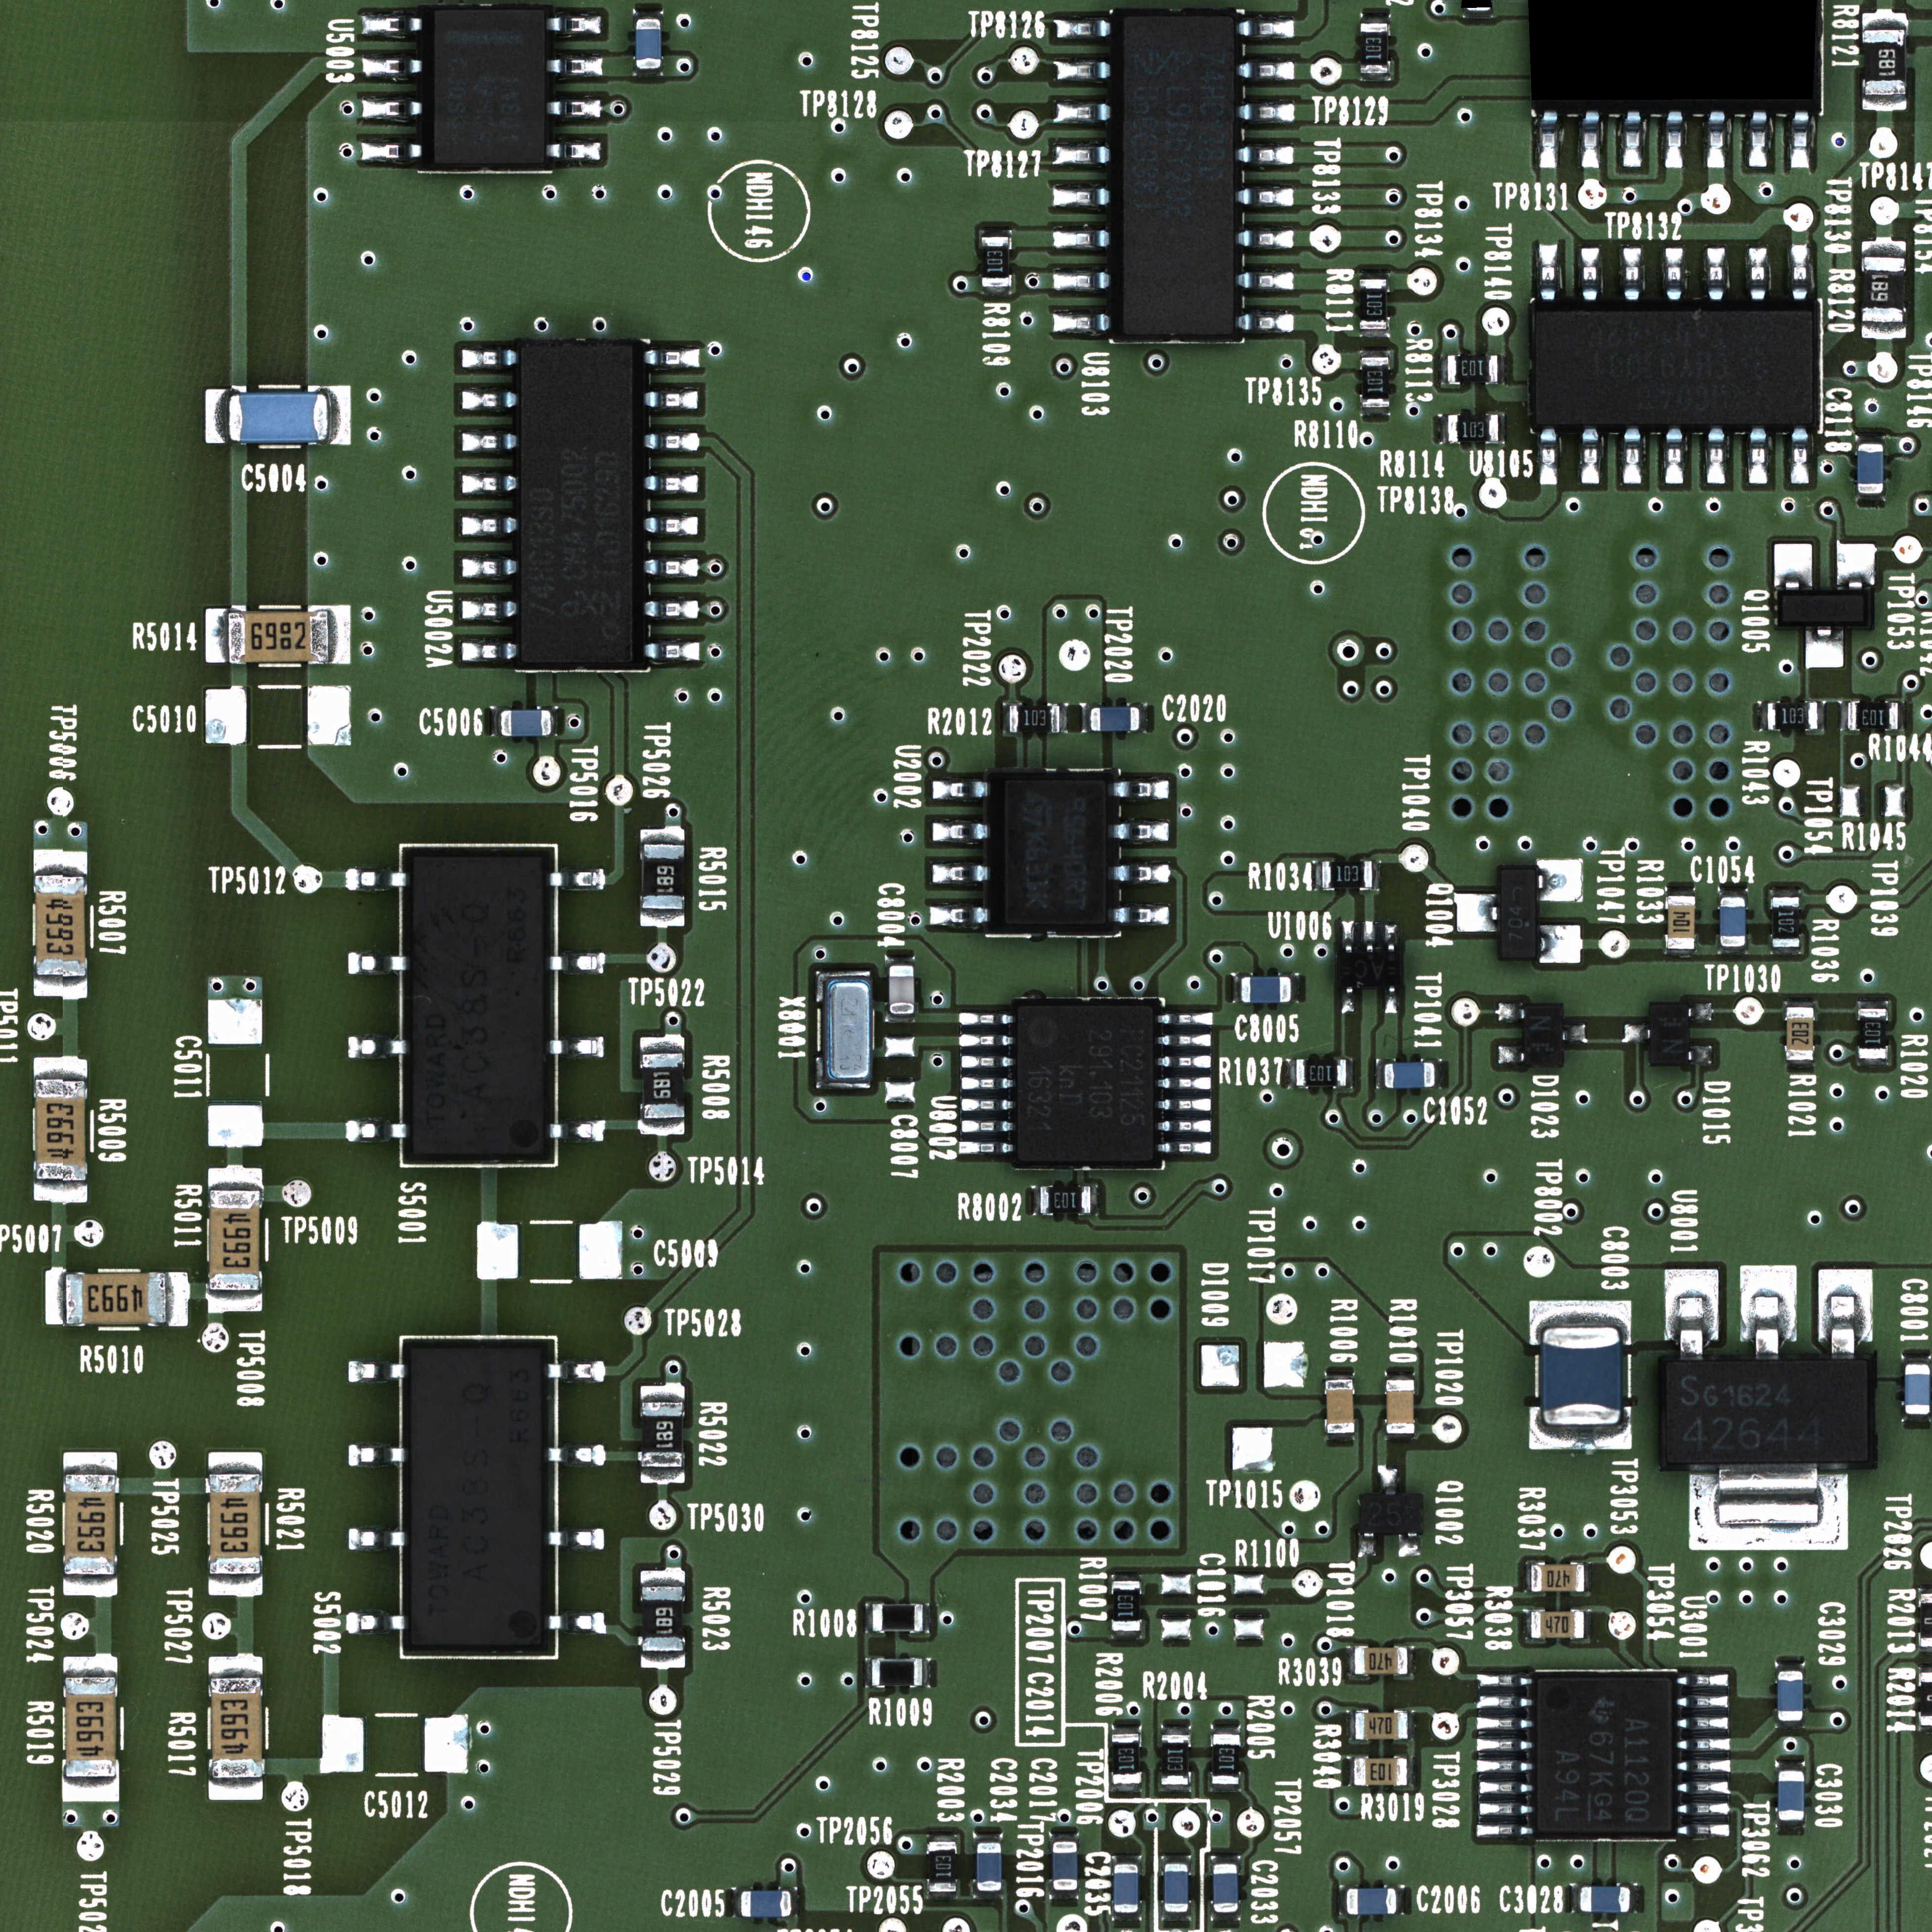Package: (409, 1346, 543, 1647), (410, 856, 545, 1157), (1122, 16, 1233, 338), (522, 347, 635, 663), (1534, 311, 1813, 425), (1016, 1005, 1154, 1162), (1665, 1362, 1870, 1463), (1537, 1679, 1672, 1831), (432, 9, 545, 165), (1001, 780, 1108, 925), (1539, 1329, 1622, 1424), (64, 1474, 119, 1575), (209, 1474, 264, 1575), (34, 1079, 87, 1182), (211, 1679, 264, 1778), (228, 612, 329, 663), (65, 1677, 117, 1778), (65, 1274, 166, 1323), (35, 876, 85, 977), (211, 1189, 258, 1292), (228, 393, 327, 441), (1499, 869, 1537, 961), (1778, 589, 1872, 626), (1861, 30, 1905, 96), (642, 1401, 685, 1468), (642, 1053, 685, 1118), (642, 1587, 685, 1651), (1863, 257, 1904, 322), (642, 844, 683, 909), (1523, 1005, 1562, 1069), (1649, 1003, 1688, 1063), (1361, 1493, 1421, 1530), (1341, 952, 1398, 987), (1355, 1645, 1408, 1675), (1858, 1008, 1888, 1060), (1667, 895, 1695, 948), (1353, 1757, 1407, 1785), (1355, 1711, 1408, 1739), (872, 1603, 922, 1633), (1111, 1734, 1141, 1783), (929, 1842, 957, 1893), (1447, 414, 1499, 442), (1787, 1007, 1813, 1060), (1387, 1380, 1414, 1433), (1327, 1380, 1353, 1433), (1361, 23, 1389, 73), (982, 237, 1010, 287), (872, 1658, 922, 1686), (1361, 357, 1389, 407), (1162, 1734, 1189, 1785), (1532, 1564, 1583, 1591), (1008, 706, 1060, 732), (1040, 1187, 1092, 1214), (1361, 280, 1387, 329), (1113, 1582, 1139, 1631), (741, 1890, 791, 1916), (888, 964, 915, 1014), (1346, 1888, 1396, 1914), (1385, 1062, 1435, 1088), (1580, 1886, 1629, 1913), (1532, 1612, 1582, 1638), (1322, 862, 1371, 888), (501, 709, 550, 736), (1447, 356, 1497, 382), (1773, 897, 1799, 947), (1242, 977, 1292, 1003), (1297, 1060, 1346, 1086), (1212, 1734, 1238, 1783), (1849, 702, 1898, 729), (1858, 444, 1884, 494), (635, 18, 660, 69), (1778, 1670, 1803, 1721), (1905, 1364, 1930, 1415), (1115, 1863, 1139, 1913), (1720, 897, 1744, 947), (1164, 1863, 1189, 1913), (1767, 704, 1817, 729), (1090, 706, 1139, 731), (1214, 1863, 1238, 1913), (1780, 1771, 1805, 1821), (1053, 1842, 1077, 1890), (977, 1844, 1001, 1891)
Solder: (1690, 1465, 1849, 1550), (1739, 1265, 1798, 1357), (1819, 1269, 1874, 1357), (1665, 1269, 1720, 1357), (1530, 1299, 1631, 1329), (1529, 1424, 1631, 1451), (1539, 860, 1583, 902), (1456, 893, 1499, 932), (1838, 543, 1875, 587), (1775, 543, 1812, 587), (1539, 924, 1580, 962), (1787, 111, 1813, 170), (1746, 111, 1773, 170), (1704, 111, 1730, 170), (1663, 111, 1690, 170), (1619, 111, 1645, 170), (359, 99, 425, 122), (359, 14, 423, 37), (361, 55, 425, 78), (361, 140, 425, 163), (209, 1652, 264, 1679), (345, 1610, 403, 1635), (62, 1778, 120, 1803), (1537, 110, 1562, 168), (1578, 110, 1603, 168), (327, 386, 350, 446), (345, 1118, 405, 1141), (1806, 628, 1842, 667), (64, 1652, 119, 1677), (547, 140, 605, 163), (548, 1359, 605, 1382), (349, 1035, 405, 1058), (349, 952, 405, 975), (548, 12, 605, 35), (548, 55, 605, 78), (547, 97, 603, 120), (345, 869, 405, 890), (35, 849, 87, 874), (64, 1451, 119, 1474), (205, 609, 228, 663), (349, 1527, 403, 1550), (205, 389, 228, 444), (1790, 244, 1812, 303), (329, 605, 350, 663), (34, 975, 87, 998), (462, 472, 515, 495), (1116, 862, 1169, 885), (462, 387, 515, 410), (932, 862, 985, 885), (1054, 58, 1108, 81), (932, 819, 985, 842), (931, 904, 987, 925), (550, 1612, 607, 1633), (646, 513, 697, 536), (1053, 311, 1108, 333), (166, 1272, 188, 1327), (1238, 311, 1293, 333), (349, 1444, 403, 1465), (550, 1444, 605, 1465), (209, 1778, 264, 1799), (44, 1270, 65, 1325), (209, 1575, 264, 1596), (1240, 18, 1295, 39), (34, 1182, 88, 1203), (1053, 186, 1108, 207), (349, 1361, 403, 1382), (1539, 428, 1559, 487), (1748, 428, 1767, 487), (552, 1120, 605, 1141), (462, 347, 515, 368), (1115, 778, 1168, 800), (462, 557, 515, 579), (462, 640, 515, 662), (462, 430, 515, 451), (209, 1453, 262, 1474), (462, 598, 515, 619), (1054, 143, 1108, 165), (462, 515, 515, 536), (1054, 18, 1108, 39), (64, 1575, 117, 1596), (646, 598, 699, 619), (1054, 101, 1108, 122), (646, 640, 699, 662), (209, 1292, 262, 1313), (209, 1168, 262, 1189), (1707, 428, 1727, 485), (1790, 428, 1810, 485), (1238, 145, 1295, 165), (1748, 246, 1767, 303), (552, 952, 603, 973), (552, 1529, 603, 1550), (646, 472, 697, 494), (646, 389, 697, 410), (648, 430, 699, 451), (35, 1056, 87, 1077), (1115, 904, 1169, 924), (1240, 271, 1295, 290), (1053, 228, 1108, 248), (1240, 60, 1295, 80), (1240, 228, 1295, 248), (1240, 188, 1295, 207), (1240, 103, 1295, 122), (552, 869, 605, 888), (552, 1037, 605, 1056), (1539, 244, 1557, 303), (646, 349, 699, 368), (932, 780, 985, 800), (1054, 271, 1108, 290), (1665, 428, 1683, 485), (1624, 428, 1642, 485), (1582, 428, 1599, 485), (1624, 246, 1642, 303), (646, 557, 697, 577), (1116, 821, 1168, 840), (1707, 248, 1725, 303), (1665, 248, 1683, 303), (1863, 235, 1907, 257), (1582, 248, 1598, 303), (1863, 11, 1907, 30), (1477, 1759, 1530, 1775), (1479, 1780, 1530, 1796), (639, 1118, 685, 1136), (640, 1035, 685, 1053), (640, 826, 685, 844), (640, 1384, 685, 1401), (640, 909, 685, 927), (640, 1568, 685, 1585), (1477, 1674, 1532, 1688), (1477, 1737, 1530, 1752), (1477, 1716, 1530, 1730), (1159, 1012, 1212, 1026), (959, 1012, 1012, 1026), (1477, 1695, 1530, 1709), (640, 1652, 686, 1668), (1479, 1801, 1530, 1815), (1161, 1076, 1212, 1090), (961, 1076, 1012, 1090), (1679, 1737, 1730, 1752), (1679, 1801, 1730, 1815), (1679, 1822, 1730, 1836), (1679, 1759, 1730, 1773), (1677, 1674, 1729, 1688), (1161, 1033, 1212, 1047), (1161, 1054, 1212, 1069), (961, 1054, 1012, 1069), (961, 1033, 1012, 1047), (1677, 1695, 1729, 1709), (1679, 1780, 1730, 1794), (959, 1139, 1010, 1154), (1863, 322, 1907, 338), (1863, 96, 1907, 111), (640, 1468, 685, 1484), (642, 1652, 686, 1668), (961, 1120, 1010, 1134), (1159, 1120, 1212, 1132), (1477, 1824, 1530, 1836), (959, 1141, 1012, 1154), (1161, 1099, 1212, 1111), (1161, 1141, 1212, 1154), (961, 1099, 1010, 1111), (1679, 1716, 1729, 1729), (1378, 1465, 1399, 1493), (1398, 1532, 1421, 1557), (1560, 1023, 1587, 1042), (1497, 1003, 1525, 1021), (1499, 1046, 1525, 1063), (1688, 1003, 1714, 1021), (1362, 922, 1376, 954), (1624, 1024, 1649, 1042), (1359, 1532, 1376, 1557), (1688, 1046, 1713, 1063), (1343, 920, 1353, 954), (1629, 1882, 1640, 1914), (1569, 1882, 1580, 1914), (1396, 1884, 1407, 1916), (1286, 1058, 1297, 1090), (1371, 860, 1382, 892), (1341, 987, 1353, 1014), (1385, 987, 1398, 1014), (1437, 414, 1447, 444), (1775, 1760, 1805, 1771), (1139, 702, 1150, 732), (1858, 998, 1888, 1008), (1030, 1185, 1040, 1215), (633, 7, 663, 18), (1775, 1660, 1805, 1670), (490, 706, 501, 736), (731, 1888, 741, 1918), (1049, 1890, 1079, 1900), (1345, 1645, 1355, 1675), (1079, 702, 1090, 732), (1757, 701, 1767, 731), (1385, 924, 1396, 952), (1111, 1631, 1143, 1640), (1359, 349, 1391, 357), (1359, 12, 1391, 21), (1720, 886, 1746, 897), (863, 1601, 872, 1633), (973, 1833, 1005, 1842), (1338, 1884, 1346, 1916), (1346, 1709, 1355, 1741), (1385, 1371, 1417, 1380), (1323, 1371, 1355, 1380), (982, 228, 1014, 237), (1001, 702, 1010, 734), (1313, 860, 1322, 892), (1775, 1821, 1806, 1829), (1359, 329, 1391, 338), (885, 955, 915, 964), (1210, 1725, 1240, 1734), (1161, 1725, 1191, 1734), (1092, 1185, 1100, 1215), (1522, 1610, 1530, 1640), (1438, 356, 1447, 386), (1583, 1610, 1592, 1640), (1583, 1562, 1592, 1592), (1210, 1913, 1240, 1921), (1771, 947, 1801, 955), (1523, 1562, 1532, 1592), (1325, 1433, 1355, 1442), (924, 1658, 932, 1688), (1060, 702, 1069, 732), (1111, 1725, 1141, 1734), (1049, 1833, 1079, 1842), (550, 706, 559, 736), (885, 1014, 915, 1023), (1111, 1913, 1141, 1921), (1111, 1783, 1141, 1792), (1407, 1757, 1415, 1787), (1361, 407, 1391, 416), (982, 287, 1012, 295), (1231, 973, 1240, 1003), (1292, 973, 1300, 1003), (1775, 1721, 1805, 1730), (1771, 886, 1801, 895), (1840, 701, 1849, 731), (1817, 701, 1826, 731), (1856, 494, 1886, 502), (1463, 11, 1493, 19), (1499, 414, 1507, 442), (1718, 947, 1746, 955), (1856, 435, 1884, 444), (1162, 1913, 1191, 1921), (1359, 271, 1387, 280), (1667, 886, 1695, 895), (1663, 950, 1697, 957), (1208, 1785, 1242, 1792), (1898, 702, 1907, 729), (1499, 354, 1506, 386), (924, 1603, 931, 1635), (632, 69, 663, 76), (791, 1886, 798, 1918), (973, 1891, 1005, 1898), (1856, 1060, 1888, 1067), (1785, 1000, 1815, 1007), (1361, 74, 1391, 81), (1376, 1058, 1384, 1088), (1111, 1575, 1141, 1582), (865, 1658, 872, 1688), (927, 1835, 957, 1842), (1111, 1856, 1141, 1863), (1161, 1785, 1191, 1792), (1161, 1856, 1191, 1863), (1210, 1856, 1240, 1863), (1346, 1757, 1353, 1787), (1408, 1711, 1415, 1741), (1408, 1645, 1415, 1675), (1385, 1433, 1415, 1440), (1346, 1058, 1353, 1088), (1435, 1060, 1442, 1088), (1787, 1060, 1815, 1067), (1904, 1415, 1930, 1422), (927, 1893, 957, 1898), (1904, 1357, 1932, 1362)
